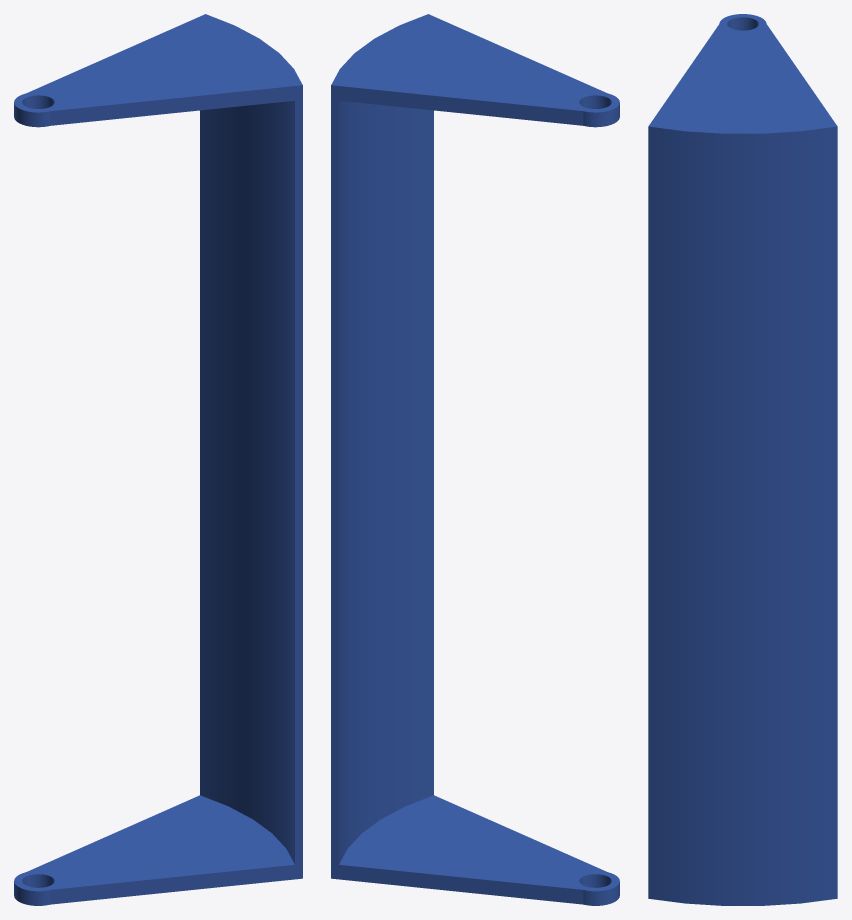
3 views of the same model, side by side, from view 1: azimuth 30°, elevation 25°; view 2: azimuth 150°, elevation 25°; view 3: azimuth 270°, elevation 25° (orthographic). The views are drawn at different scales.
Visible parts, largest first — view 1: Part 3; view 2: Part 3; view 3: Part 3.
Boxes of the visible parts, box(x1,y1,x2,y2) form: Part 3: box(14, 14, 302, 905); Part 3: box(331, 14, 619, 905); Part 3: box(648, 14, 837, 905).
Bounding box in the file's own units: 0.228 × 0.6857 × 0.1524.
